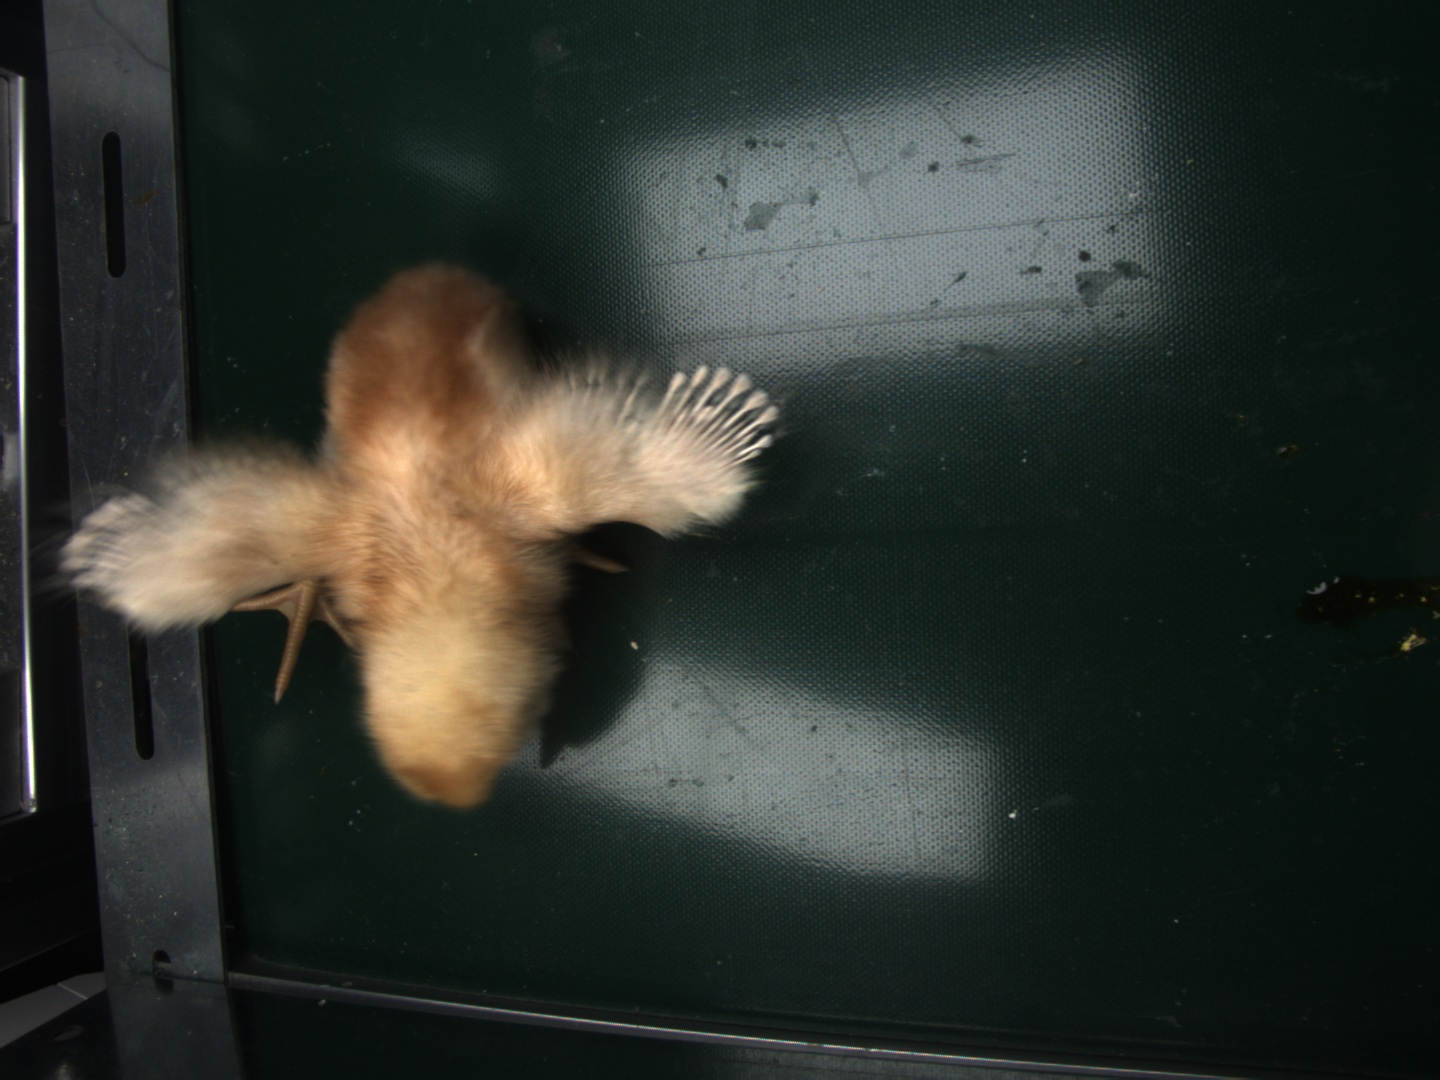female: (664, 362, 783, 461)
